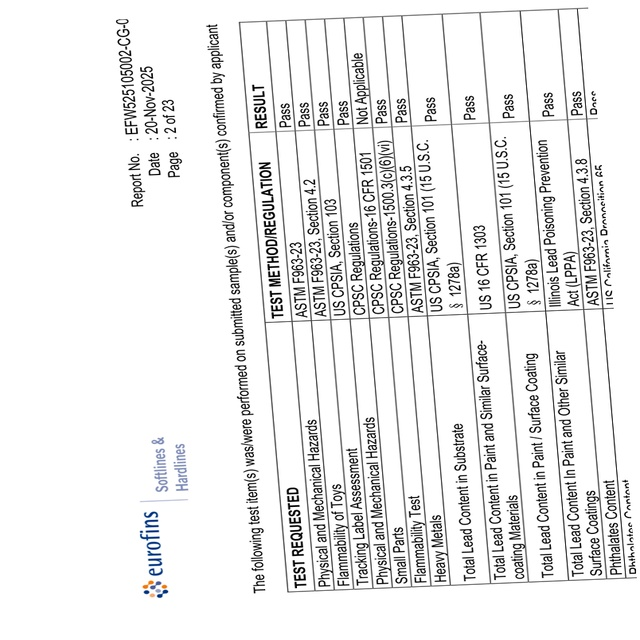eurofins: (136, 506, 177, 604)
